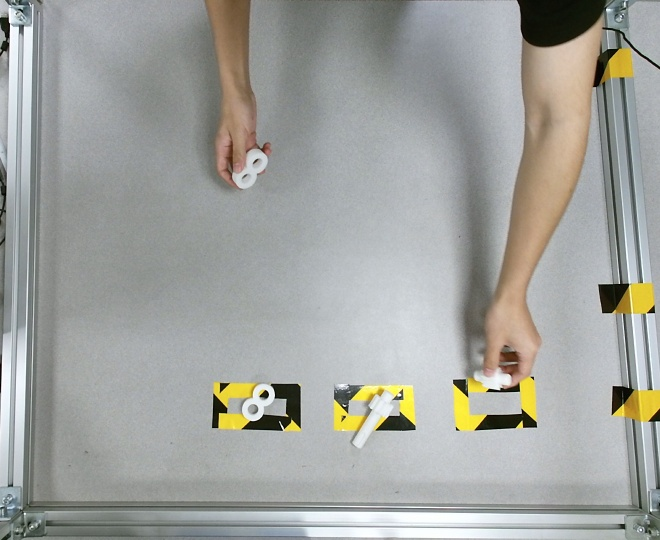stage_1: (232, 149, 267, 188)
